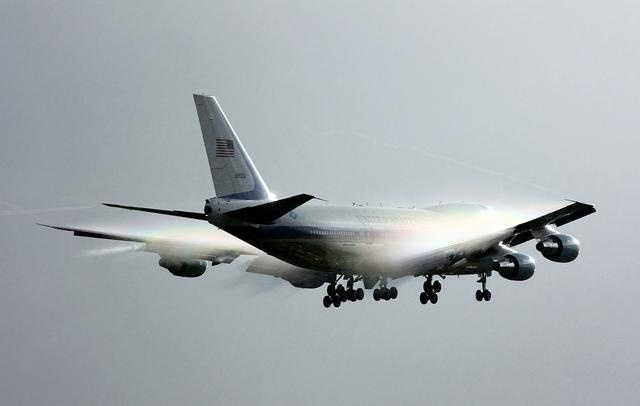airplane: (30, 93, 598, 308)
